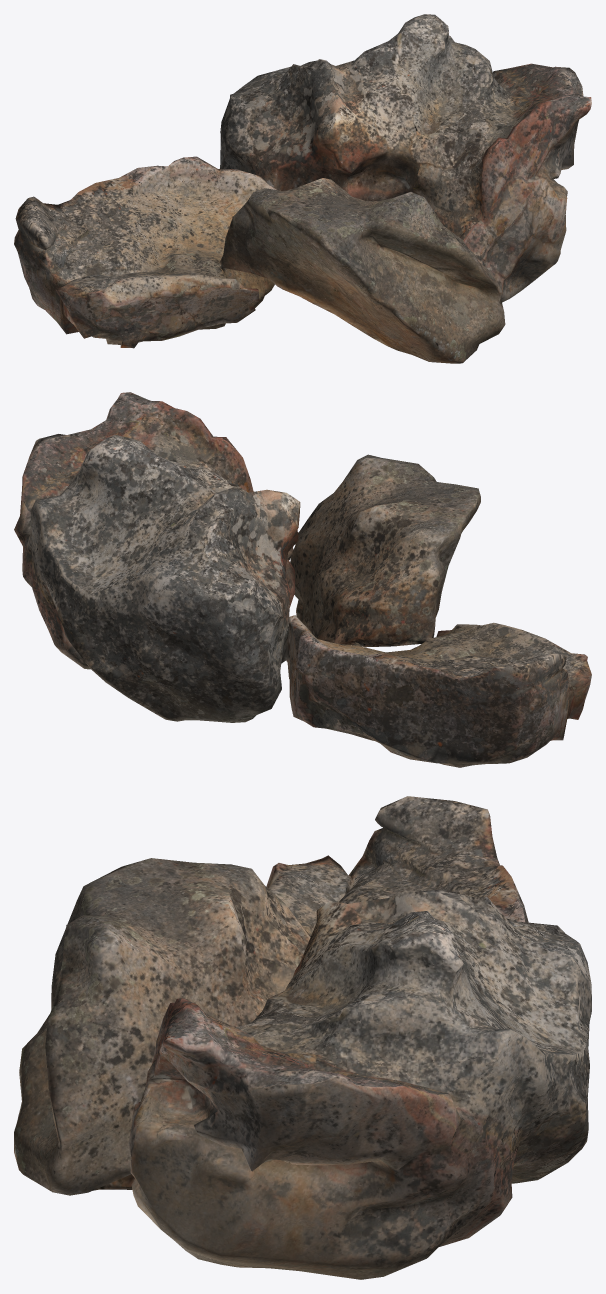
File: SM_yewnaiq_tier_2.gltf
3 renders of one model, top to bottom at view 1: azimuth 30°, elevation 25°; view 2: azimuth 150°, elevation 25°; view 3: azimuth 270°, elevation 25°, orthographic. The views are drawn at different scales.
Parts seen in each view (by area): view 1: yewnaiq_LOD2_TIER2_000; view 2: yewnaiq_LOD2_TIER2_000; view 3: yewnaiq_LOD2_TIER2_000.
Boxes of the visible parts, bbox=[...] form: yewnaiq_LOD2_TIER2_000: bbox=[14, 14, 591, 363]; yewnaiq_LOD2_TIER2_000: bbox=[14, 392, 591, 767]; yewnaiq_LOD2_TIER2_000: bbox=[14, 796, 591, 1279].
Bounding box in the file's own units: 1.21 × 0.4914 × 0.8047.
Materials: 1 (1 with a texture image).
